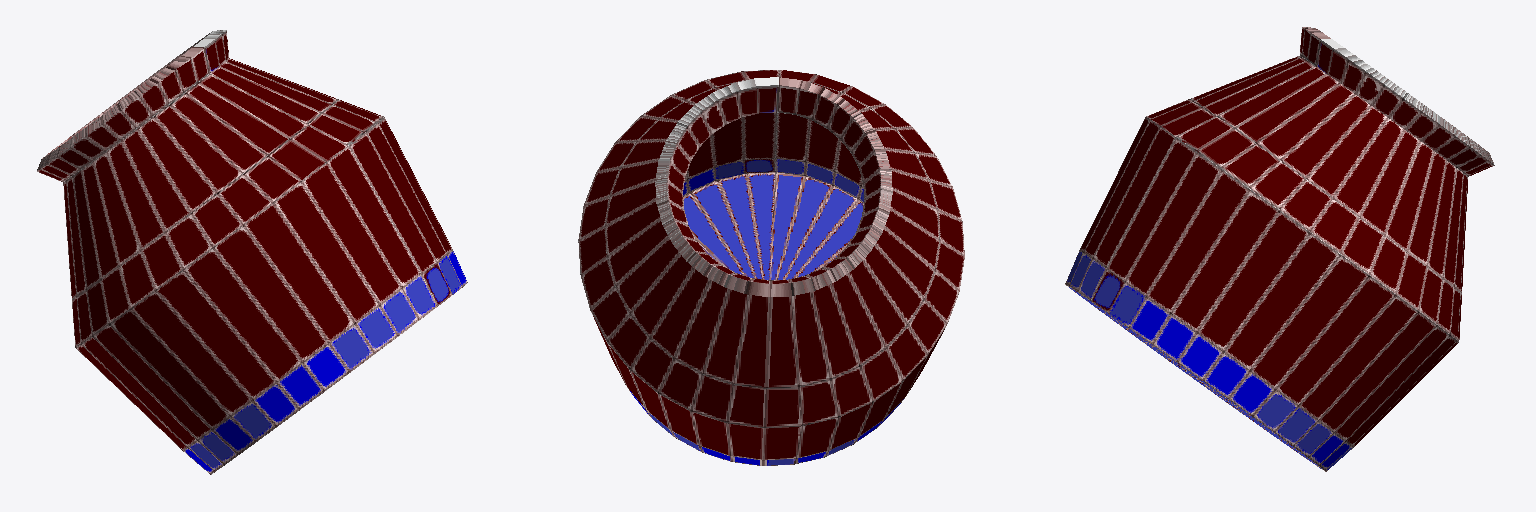
3 views of the same model, side by side, from view 1: azimuth 30°, elevation 25°; view 2: azimuth 150°, elevation 25°; view 3: azimuth 270°, elevation 25° (orthographic).
Visible parts, largest first — view 1: Circle; view 2: Circle; view 3: Circle.
Part boxes in pixels (left/top/right/bottom): Circle: left=37, top=30, right=467, bottom=474; Circle: left=578, top=70, right=964, bottom=465; Circle: left=1065, top=27, right=1494, bottom=471.
Bounding box in the file's own units: 0.2972 × 0.3335 × 0.3225.
1 materials, 1 textured.